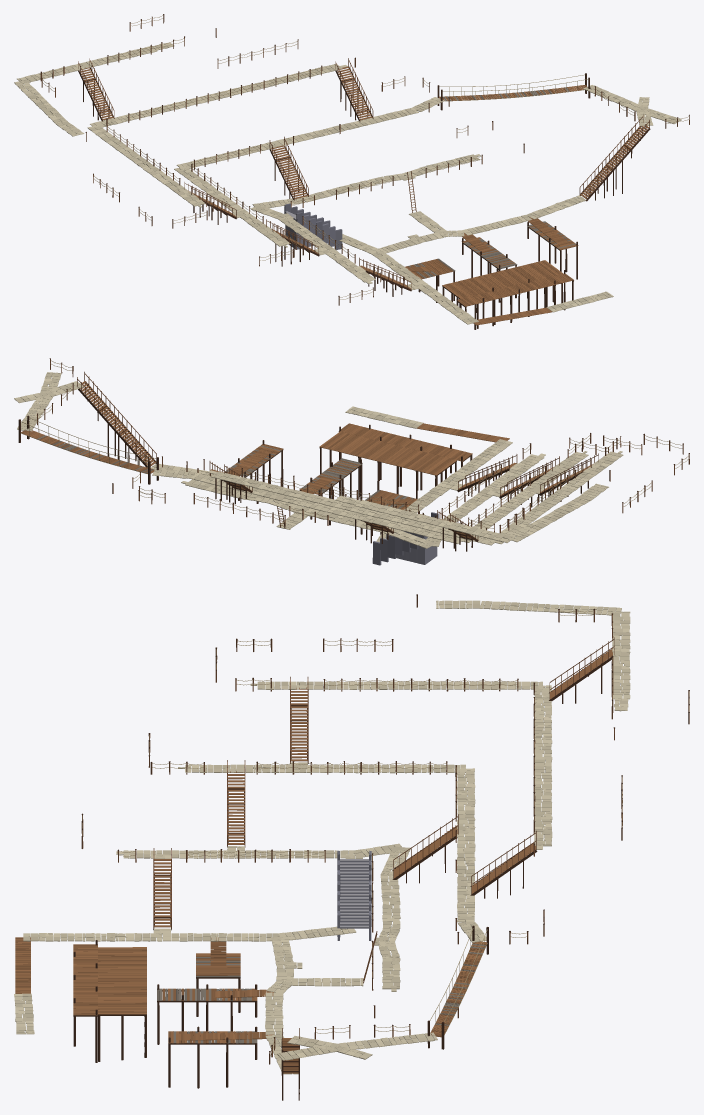
File: structures.glb
3 renders of one model, top to bottom at view 1: azimuth 30°, elevation 25°; view 2: azimuth 150°, elevation 25°; view 3: azimuth 270°, elevation 25°, orthographic. The views are drawn at different scales.
Visible parts, largest first — view 1: LT_STRUCTURES; view 2: LT_STRUCTURES; view 3: LT_STRUCTURES.
Boxes of the visible parts, <box> form: LT_STRUCTURES: <box>14,14,689,329</box>; LT_STRUCTURES: <box>14,358,689,565</box>; LT_STRUCTURES: <box>14,594,689,1100</box>.
Size of the model in its own units: 76.42 by 23.45 by 60.59.
